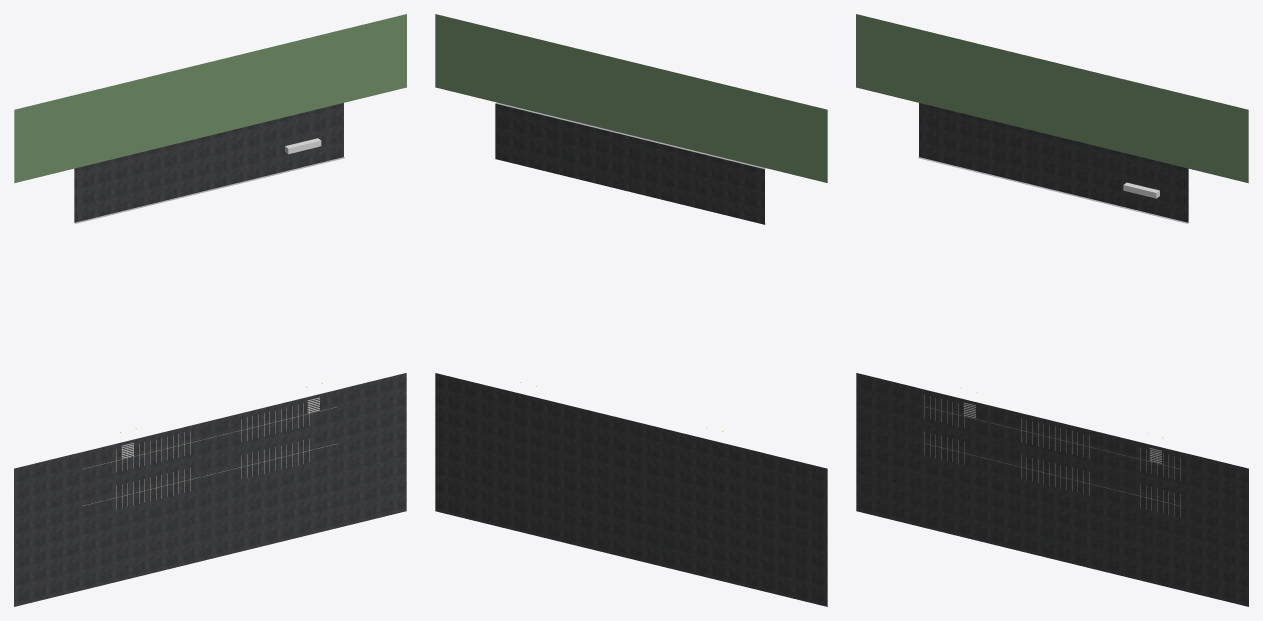
Rendered from outside.gltf.
3 views of the same model, side by side, from view 1: azimuth 30°, elevation 25°; view 2: azimuth 150°, elevation 25°; view 3: azimuth 330°, elevation 25° (orthographic).
Visible parts, largest first — view 1: outside; view 2: outside; view 3: outside.
Boxes of the visible parts, <box> form: outside: <box>14,14,406,606</box>; outside: <box>435,14,827,606</box>; outside: <box>856,14,1248,606</box>.
Bounding box in the file's own units: 190 × 230 × 4.05.
11 materials, 6 textured.
